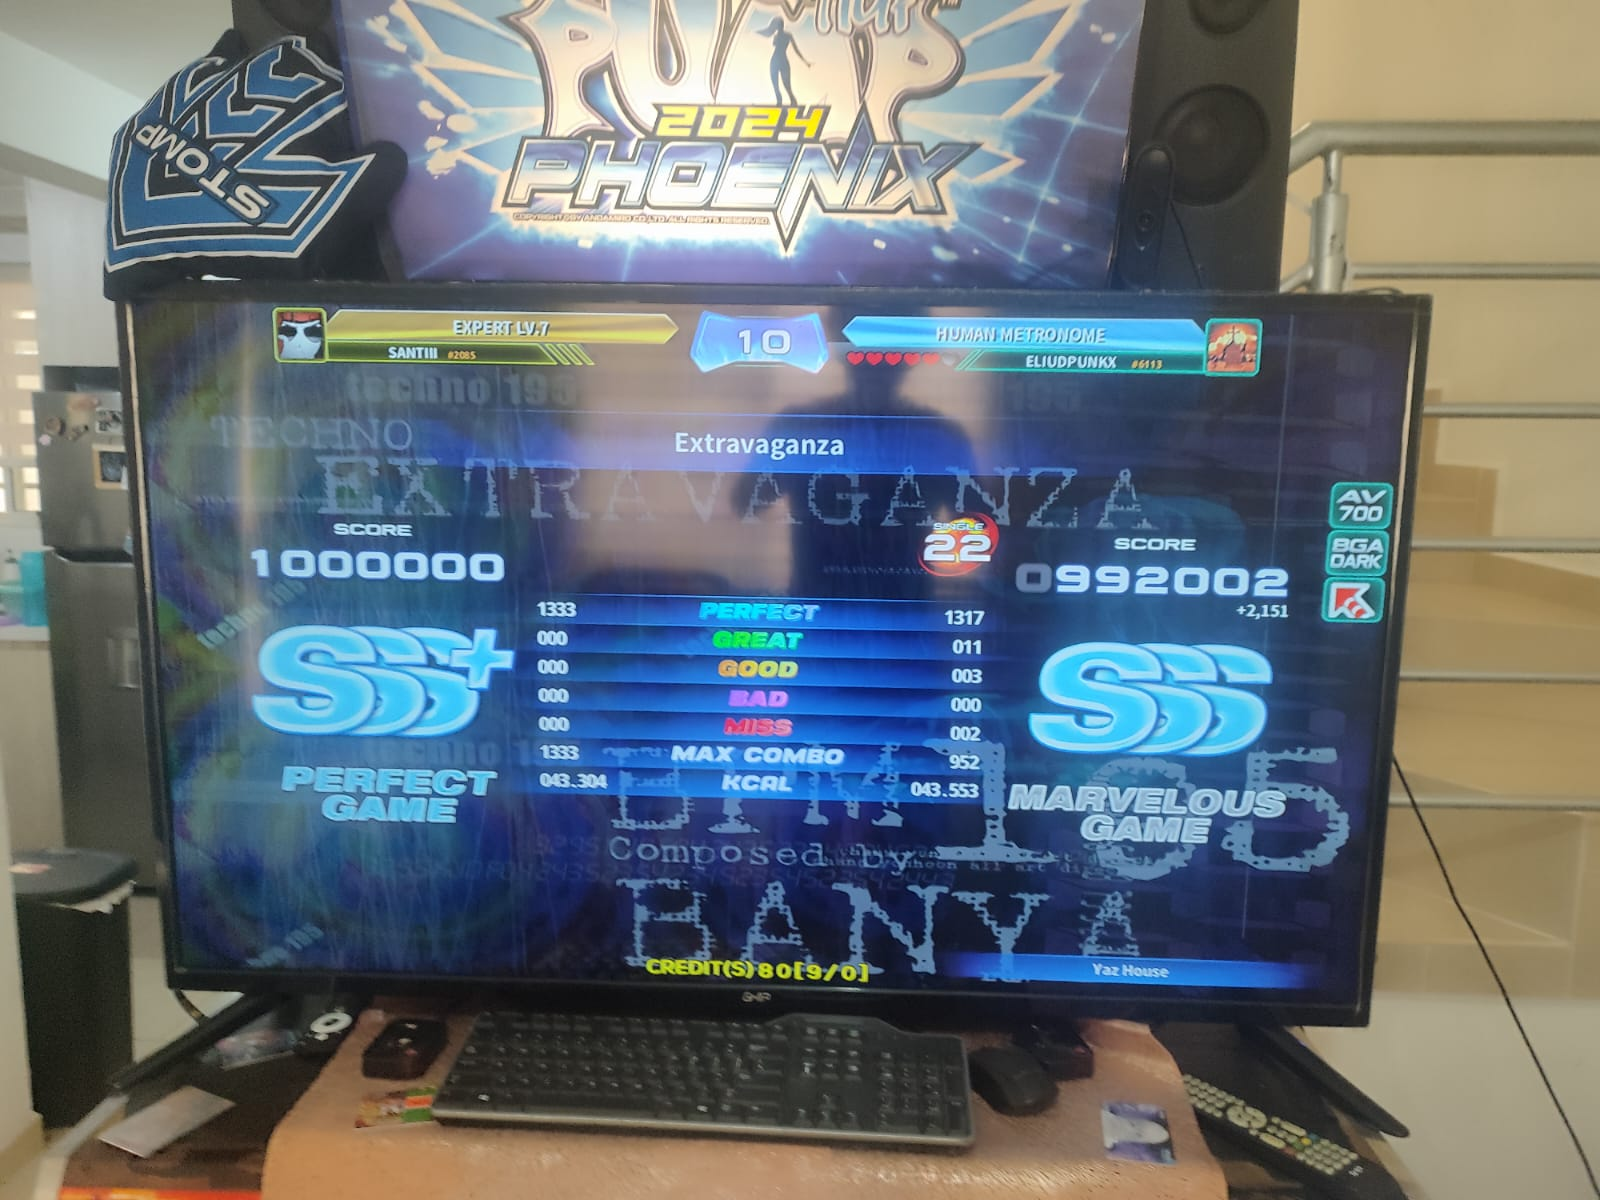difficulty: (912, 503, 993, 586)
fullscore: (554, 310, 1398, 986)
rank: (1015, 616, 1323, 790)
score: (1019, 538, 1322, 603)
song_name: (654, 415, 862, 489)
